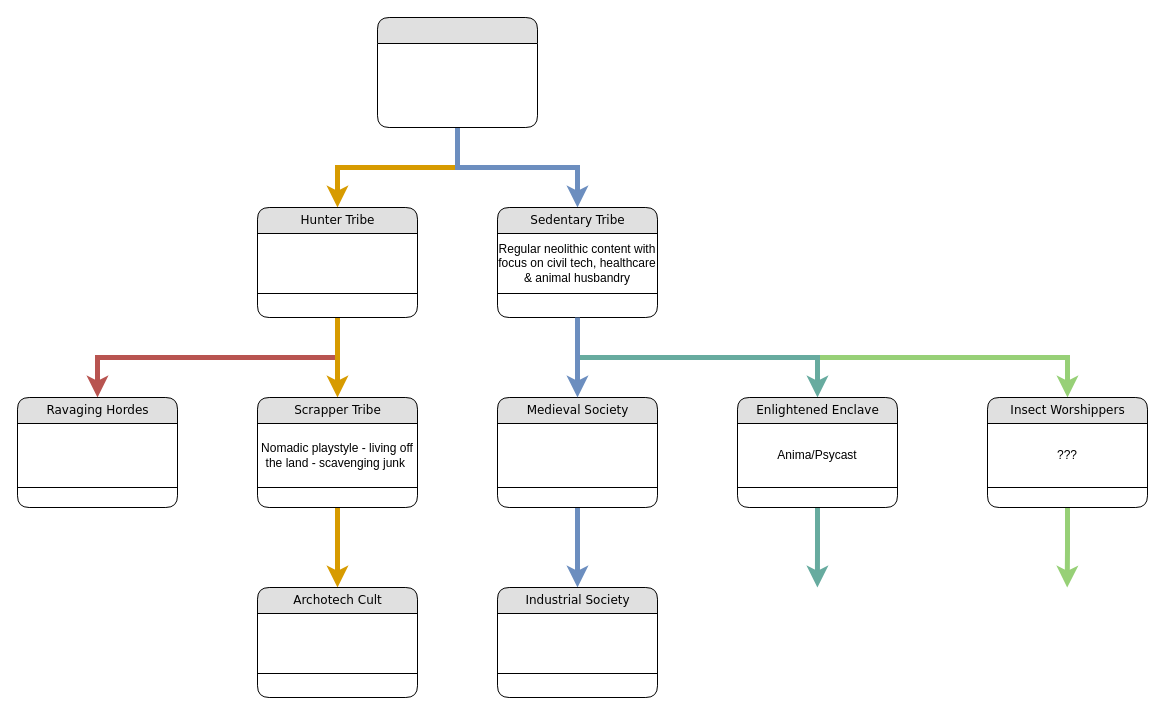
The diagram is 1165 pixels wide and 715 high, and some of its shapes have lost their labels. The centre of each missing label's shape, as x and y in pixels:
"Neolithic Start" belongs at point (457, 72).
"Nomadic playstyle with occasional access to spacer+ content through looting" belongs at point (337, 643).
"NPC Faction Flavour" belongs at point (97, 455).
"Regular 'crashlanded' route" belongs at point (577, 643).
"Regular neolithic content with focus on warfare & hunting" belongs at point (337, 263).
"Regular progression - access to stone structures, arts, metalworking, etc." belongs at point (577, 455).
